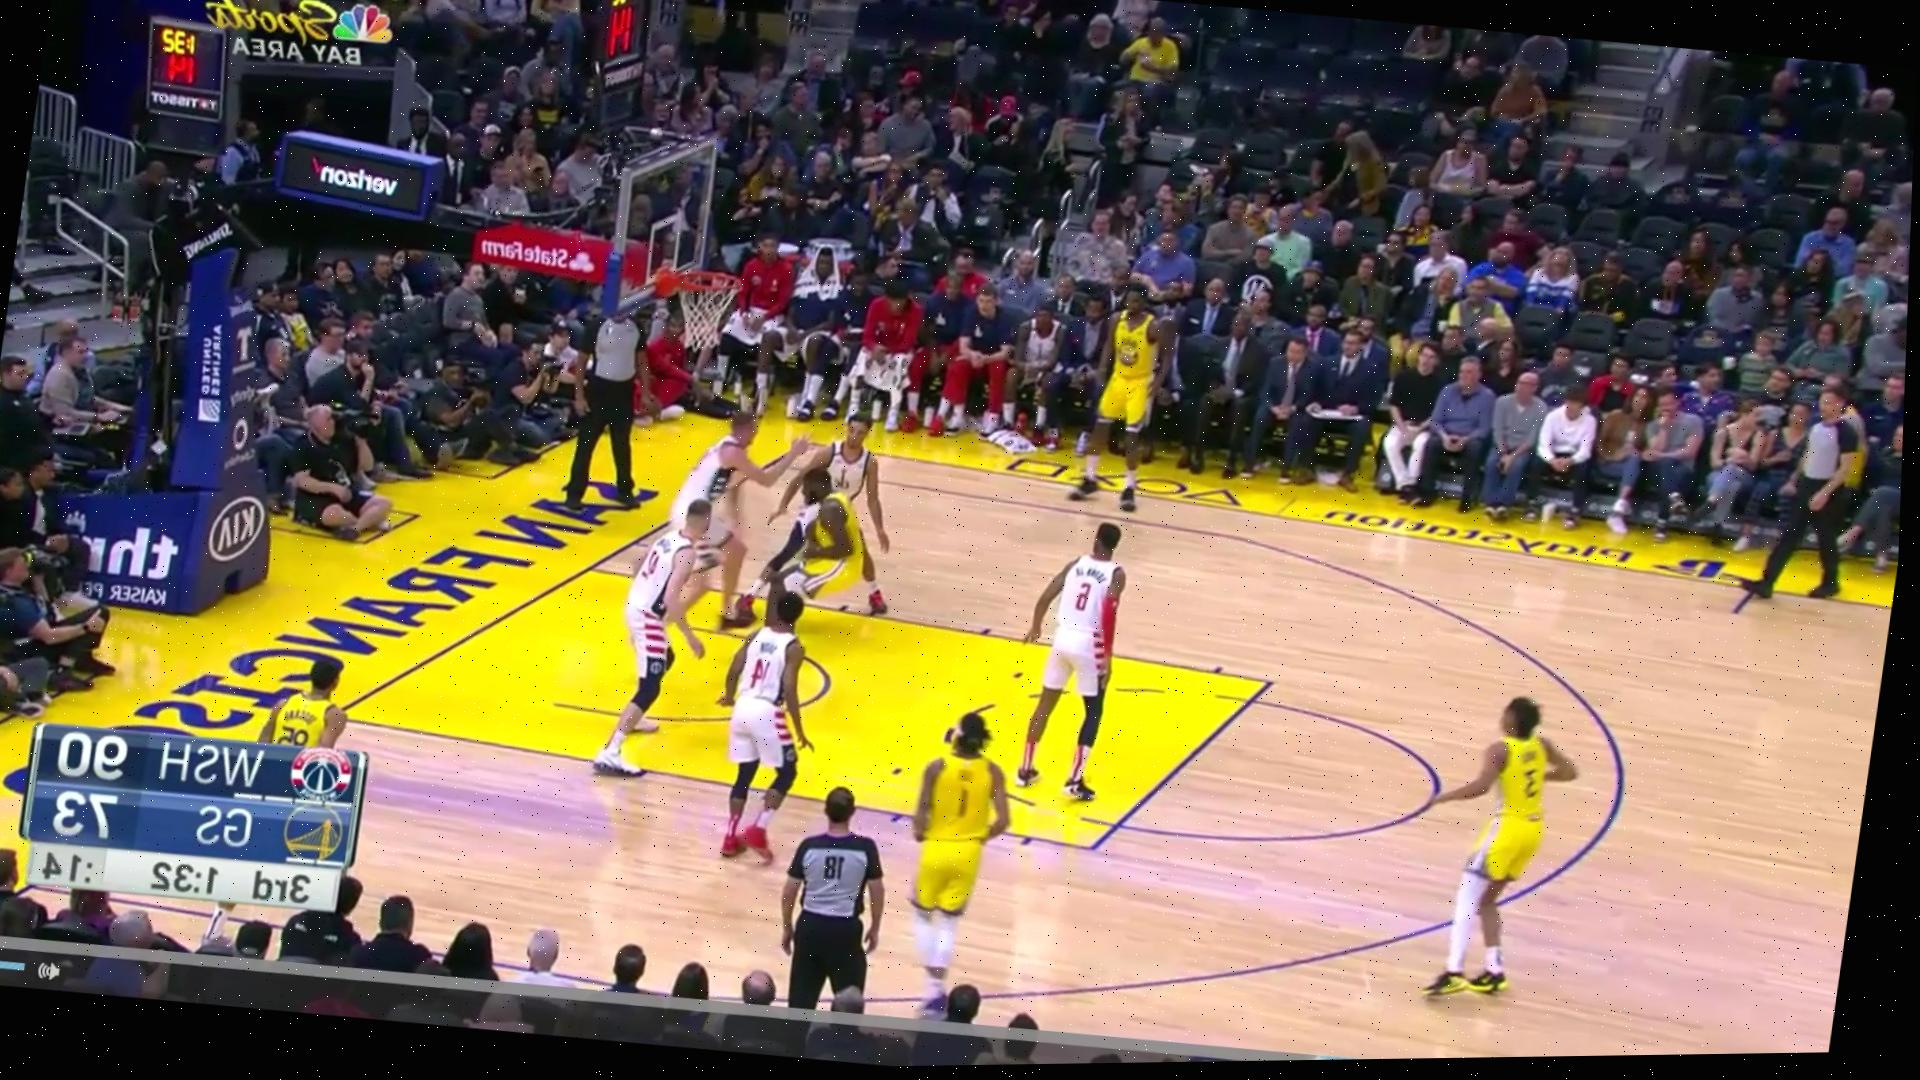foul: (649, 386, 887, 641)
